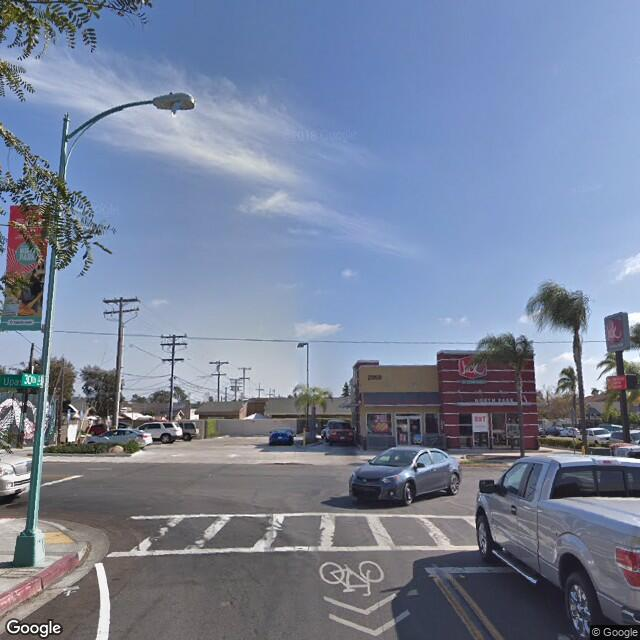light: (146, 90, 199, 112)
road line: (427, 562, 496, 640)
window: (465, 410, 499, 445), (367, 405, 392, 438)
